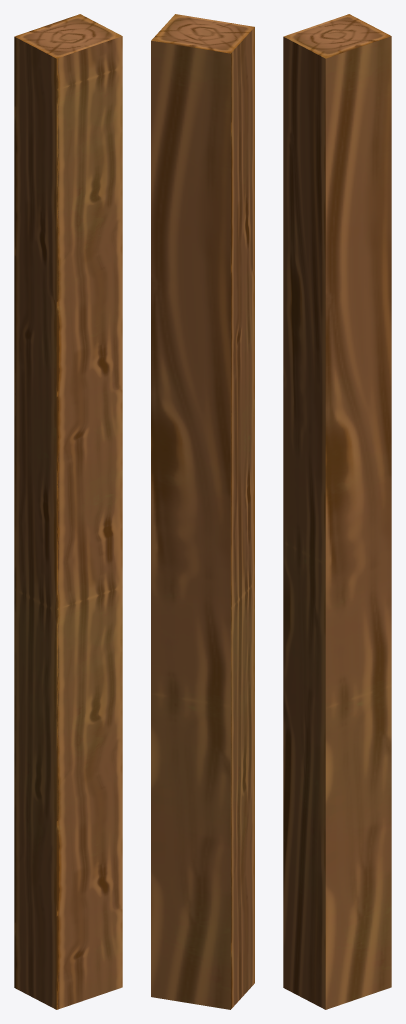
The picture shows the model from 3 angles, left to right: view 1: azimuth 90°, elevation 25°; view 2: azimuth 210°, elevation 25°; view 3: azimuth 270°, elevation 25°; orthographic projection.
Visible parts, largest first — view 1: Cube.622; view 2: Cube.622; view 3: Cube.622.
Boxes of the visible parts, x1,y1,x2,y2 form: Cube.622: (14, 14, 122, 1009); Cube.622: (151, 14, 254, 1009); Cube.622: (283, 14, 391, 1009).
Bounding box in the file's own units: 94.21 × 935 × 96.52.
Materials: 1 (1 with a texture image).
